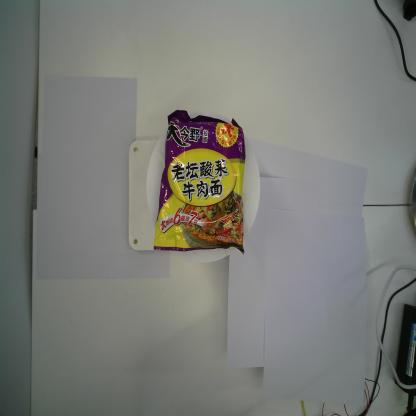Instant Noodles: (153, 108, 246, 256)
